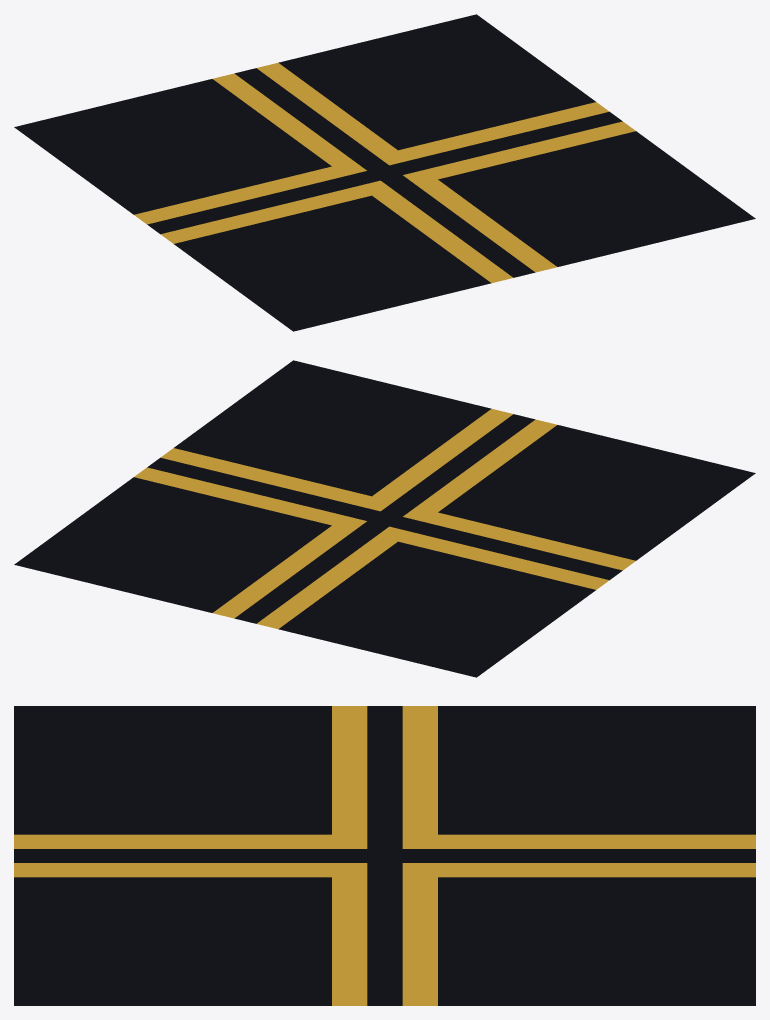
File: roadplane3.FBX
The picture shows the model from 3 angles, top to bottom: view 1: azimuth 30°, elevation 25°; view 2: azimuth 150°, elevation 25°; view 3: azimuth 270°, elevation 25°; orthographic projection. The views are drawn at different scales.
Visible parts, largest first — view 1: roadplane3; view 2: roadplane3; view 3: roadplane3.
Boxes of the visible parts, box(x1,y1,x2,y2) form: roadplane3: box(14, 14, 755, 331); roadplane3: box(14, 360, 755, 677); roadplane3: box(14, 706, 755, 1005).
Size of the model in its own units: 30.87 by 1.98e-15 by 32.29.
